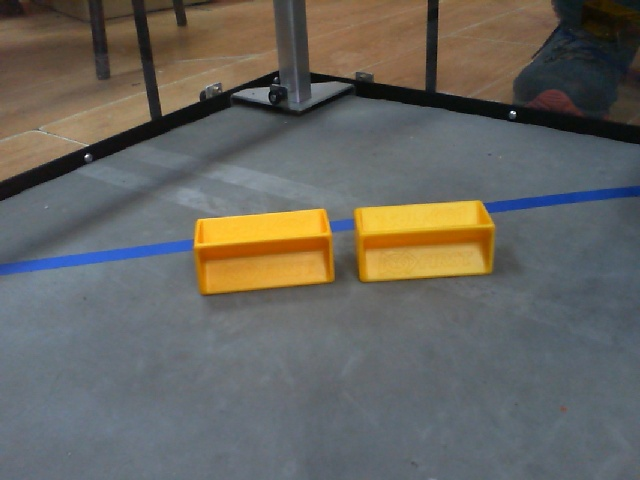YellowSample: (190, 203, 336, 296), (351, 198, 496, 287)
